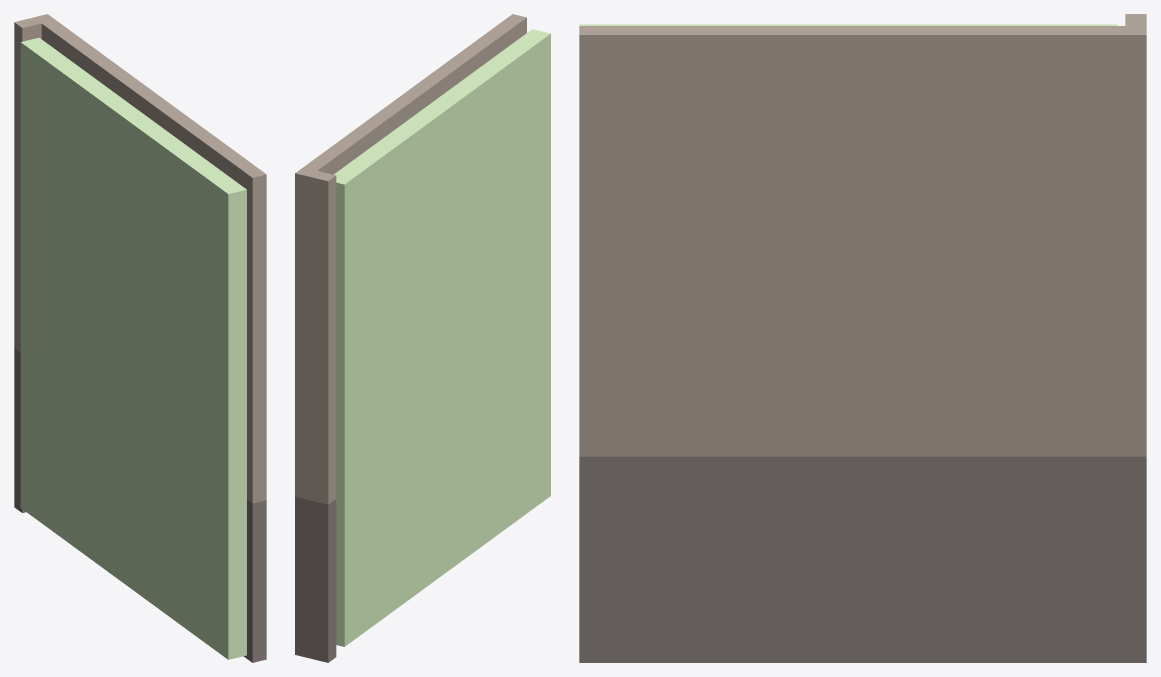
3 renders of one model, left to right at view 1: azimuth 30°, elevation 25°; view 2: azimuth 150°, elevation 25°; view 3: azimuth 270°, elevation 25°, orthographic. The views are drawn at different scales.
Parts seen in each view (by area): view 1: [8325229]21_isolatie 131mm, [8334664]21_Metselwerk Sonsbeek 100 mm, Aberson 48N13, [8334679]21_Metselwerk Hadsund 100mm, Aberson 48N45, [8334665]21_Metselwerk Sonsbeek 100 mm, Aberson 48N13, [8334680]21_Metselwerk Hadsund 100mm, Aberson 48N45; view 2: [8325229]21_isolatie 131mm, [8334665]21_Metselwerk Sonsbeek 100 mm, Aberson 48N13, [8334680]21_Metselwerk Hadsund 100mm, Aberson 48N45, [8334664]21_Metselwerk Sonsbeek 100 mm, Aberson 48N13; view 3: [8334664]21_Metselwerk Sonsbeek 100 mm, Aberson 48N13, [8334679]21_Metselwerk Hadsund 100mm, Aberson 48N45, [8334665]21_Metselwerk Sonsbeek 100 mm, Aberson 48N13, [8334680]21_Metselwerk Hadsund 100mm, Aberson 48N45, [8325229]21_isolatie 131mm.
Part boxes in pixels (left/top/right/bottom): [8325229]21_isolatie 131mm: left=20, top=37, right=246, bottom=659; [8334664]21_Metselwerk Sonsbeek 100 mm, Aberson 48N13: left=41, top=20, right=266, bottom=503; [8334679]21_Metselwerk Hadsund 100mm, Aberson 48N45: left=244, top=500, right=266, bottom=662; [8334665]21_Metselwerk Sonsbeek 100 mm, Aberson 48N13: left=14, top=14, right=55, bottom=352; [8334680]21_Metselwerk Hadsund 100mm, Aberson 48N45: left=14, top=348, right=25, bottom=512; [8325229]21_isolatie 131mm: left=334, top=29, right=550, bottom=646; [8334665]21_Metselwerk Sonsbeek 100 mm, Aberson 48N13: left=295, top=167, right=336, bottom=504; [8334680]21_Metselwerk Hadsund 100mm, Aberson 48N45: left=295, top=496, right=336, bottom=662; [8334664]21_Metselwerk Sonsbeek 100 mm, Aberson 48N13: left=304, top=14, right=526, bottom=174; [8334664]21_Metselwerk Sonsbeek 100 mm, Aberson 48N13: left=579, top=26, right=1125, bottom=456; [8334679]21_Metselwerk Hadsund 100mm, Aberson 48N45: left=579, top=456, right=1125, bottom=662; [8334665]21_Metselwerk Sonsbeek 100 mm, Aberson 48N13: left=1125, top=14, right=1146, bottom=456; [8334680]21_Metselwerk Hadsund 100mm, Aberson 48N45: left=1125, top=456, right=1146, bottom=662; [8325229]21_isolatie 131mm: left=579, top=24, right=1117, bottom=25.
Size of the model in its own units: 0.27 by 3.26 by 2.67.
